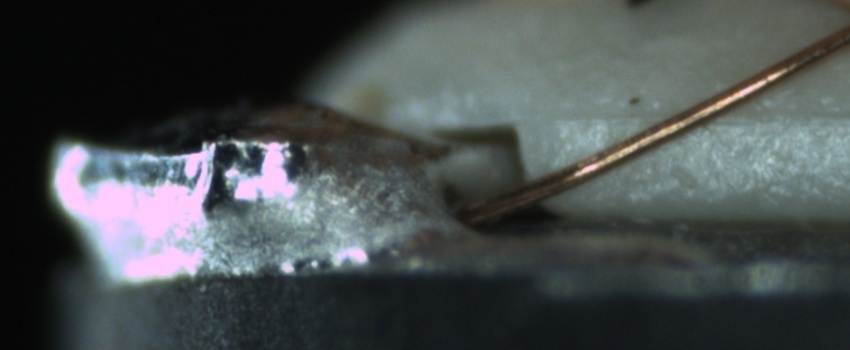DL: (552, 86, 849, 148)
